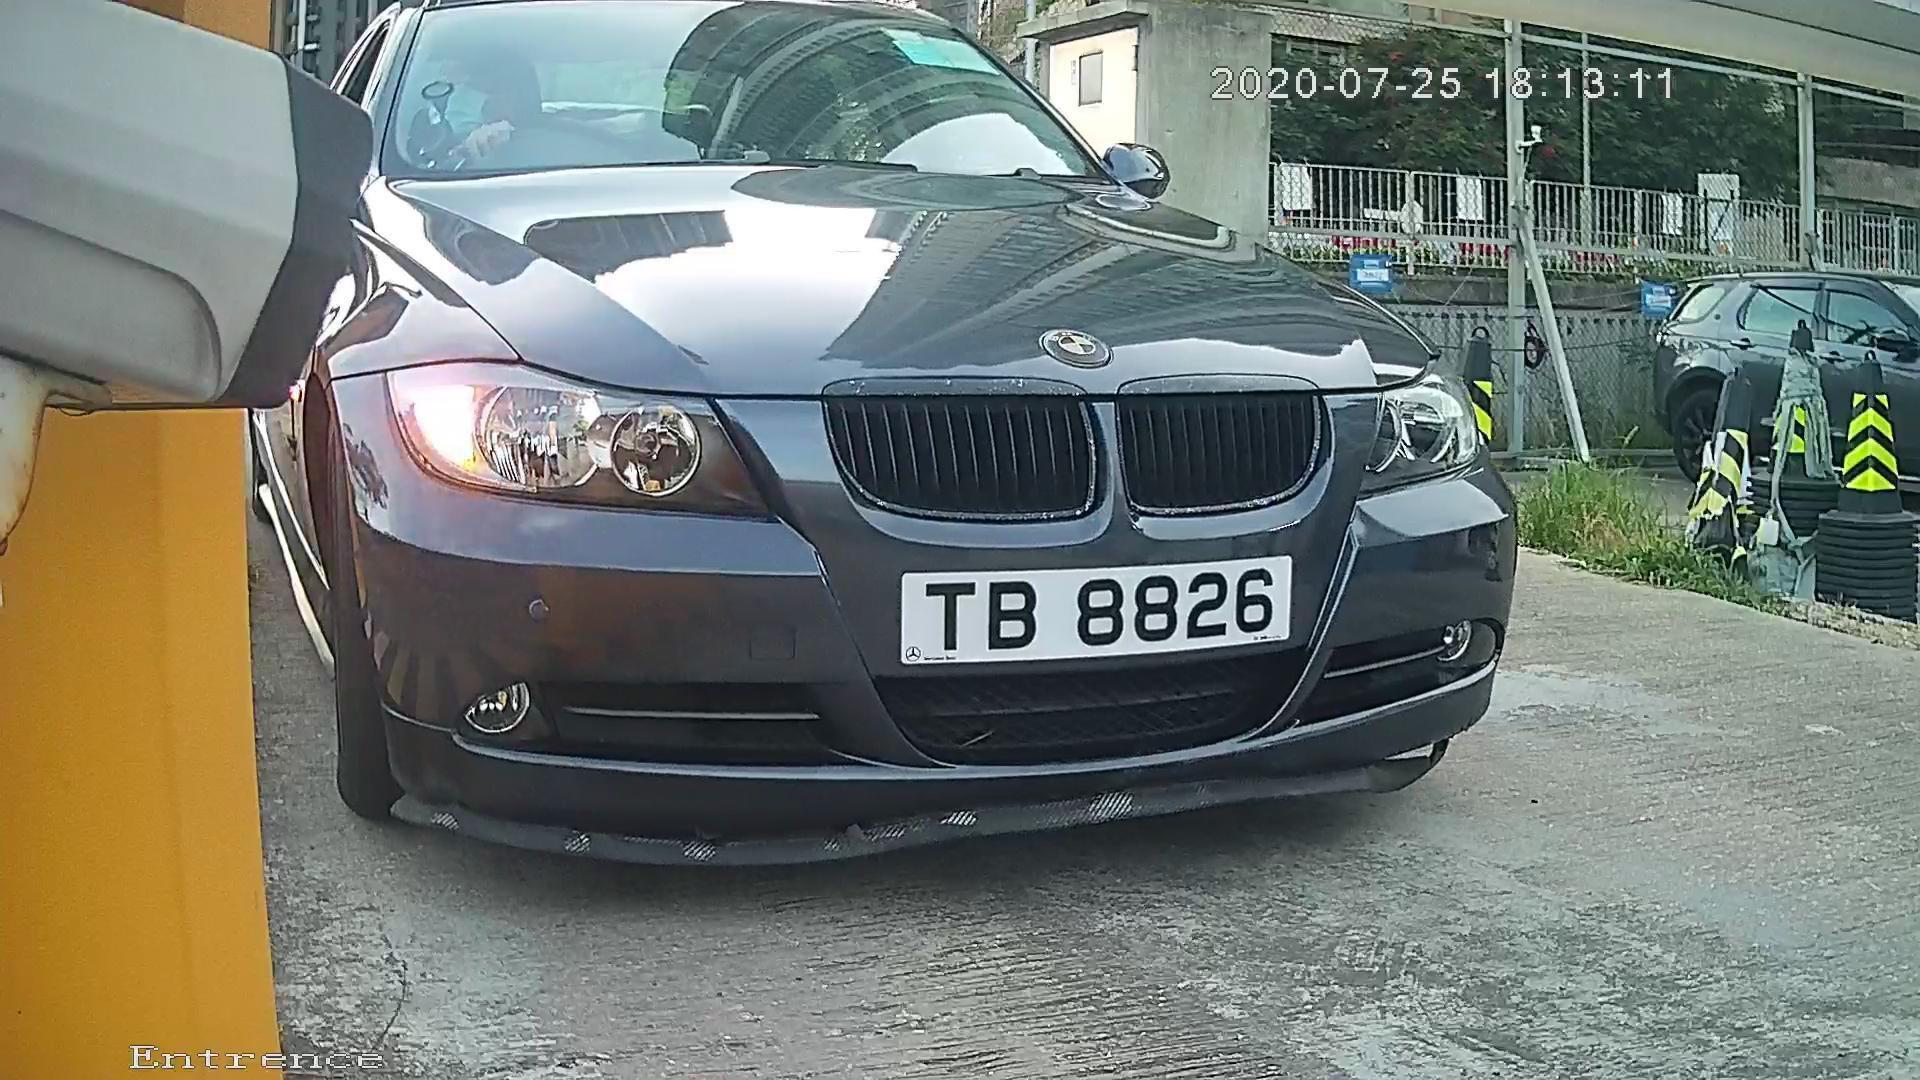privatecar: (232, 29, 1741, 858)
